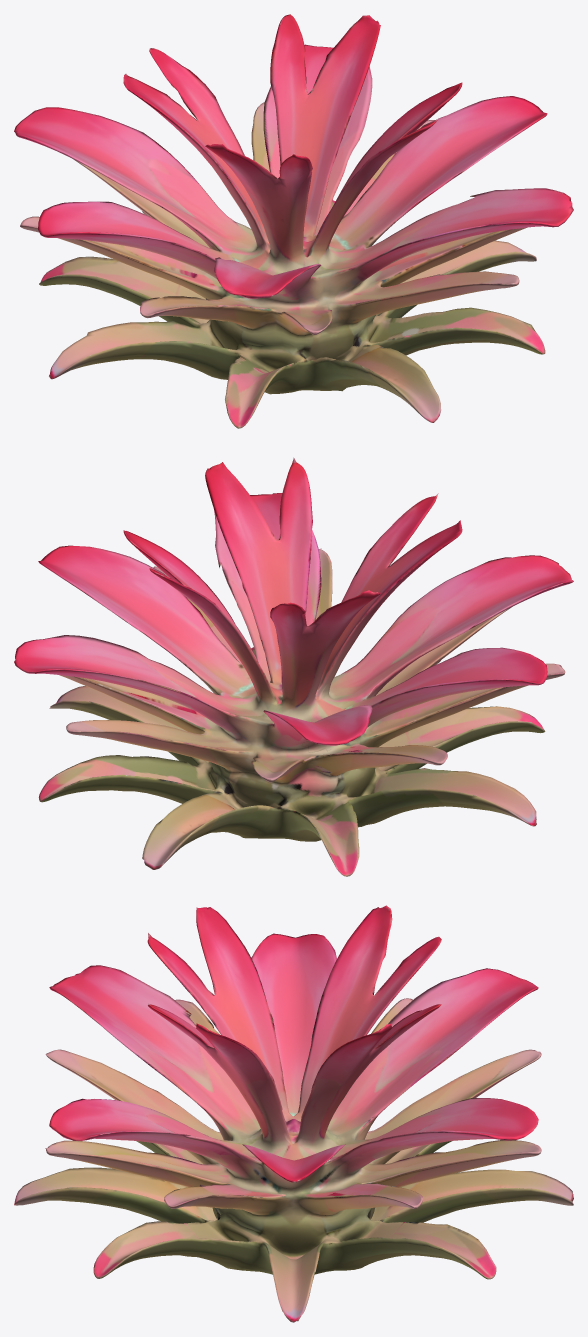
File: bromelia_flower.glb
3 renders of one model, top to bottom at view 1: azimuth 30°, elevation 25°; view 2: azimuth 150°, elevation 25°; view 3: azimuth 270°, elevation 25°, orthographic.
Parts seen in each view (by area): view 1: Object_2; view 2: Object_2; view 3: Object_2.
Part boxes in pixels (bbox=[...]): Object_2: bbox=[14, 14, 573, 428]; Object_2: bbox=[14, 457, 573, 876]; Object_2: bbox=[14, 905, 573, 1322].
Bounding box in the file's own units: 0.197 × 0.104 × 0.1907.
1 material, 1 textured.
